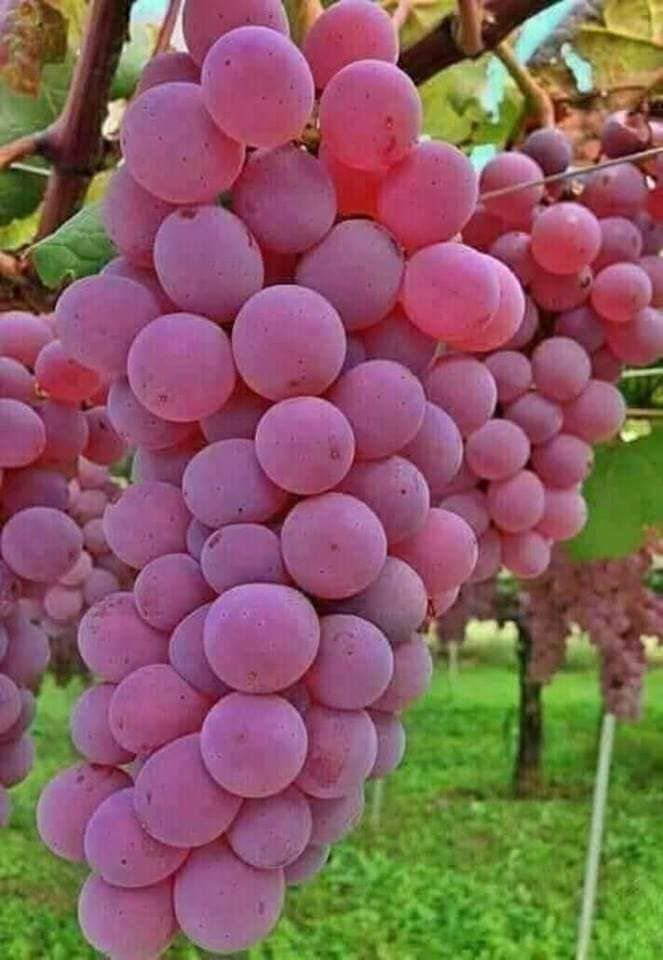Red Grapes: (22, 3, 604, 952)
